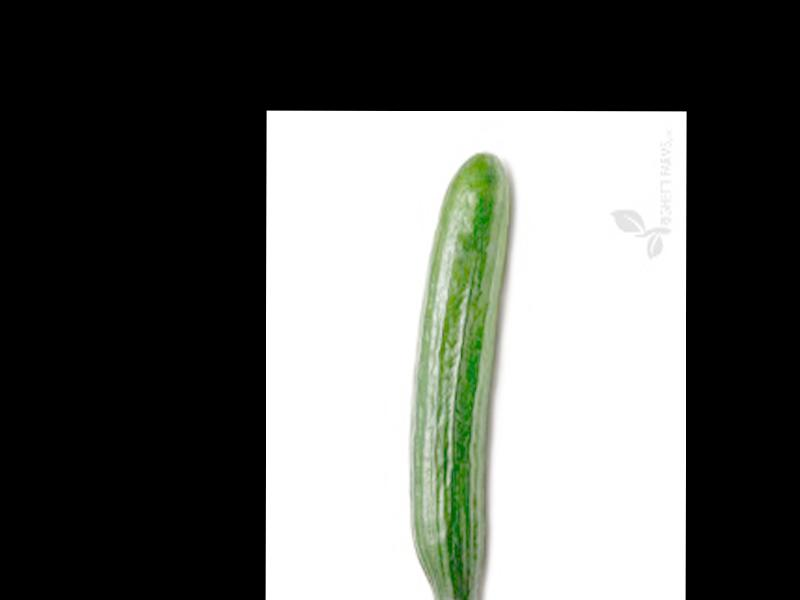Cucumber: (410, 149, 511, 600)
